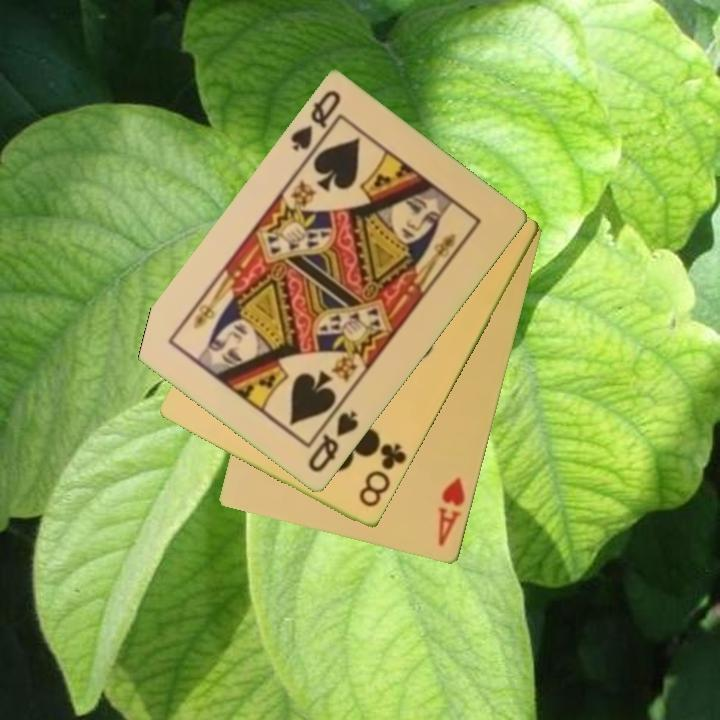8c: (355, 440, 410, 511)
Ah: (435, 474, 469, 550)
Qs: (286, 87, 344, 164), (304, 407, 362, 476)
